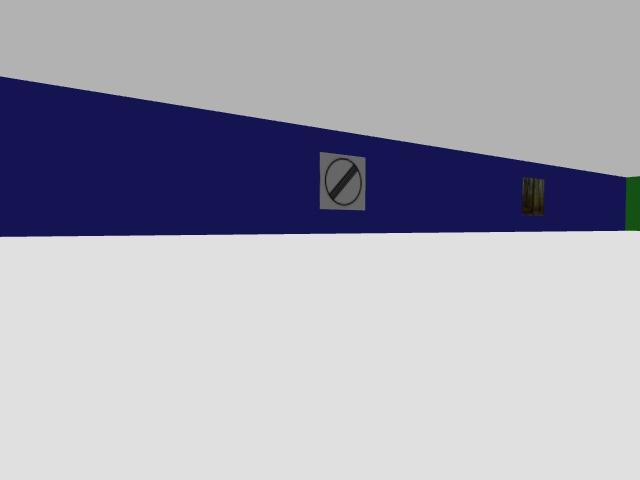fastsign: (320, 153, 365, 210)
